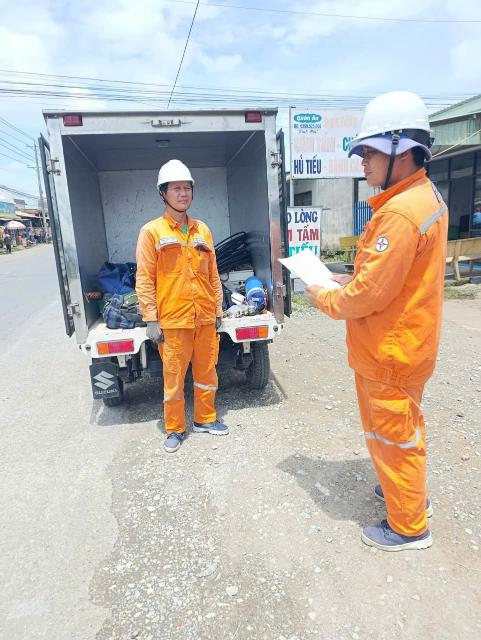gloves: (139, 317, 163, 342), (209, 312, 225, 333)
helmet: (339, 87, 447, 148), (150, 155, 203, 192)
shoes: (348, 505, 439, 558), (365, 479, 441, 520), (190, 414, 233, 439), (154, 425, 188, 456)
